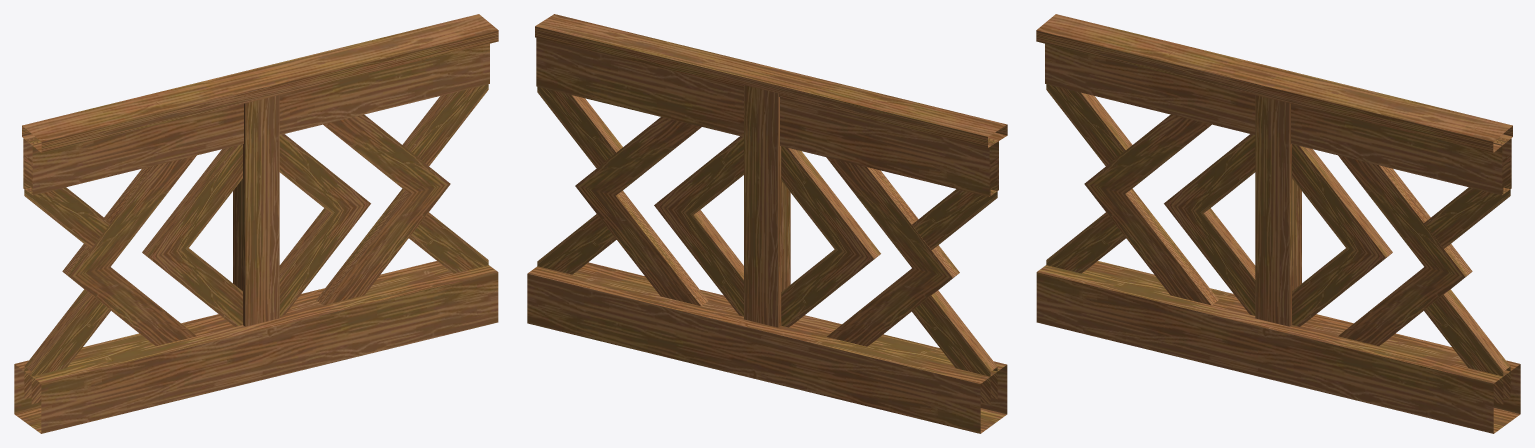
File: balcony_cross_straight.glb
3 views of the same model, side by side, from view 1: azimuth 30°, elevation 25°; view 2: azimuth 150°, elevation 25°; view 3: azimuth 330°, elevation 25° (orthographic).
Bounding box in the file's own units: 2 × 1.23 × 0.2063.
Materials: 1 (1 with a texture image).
